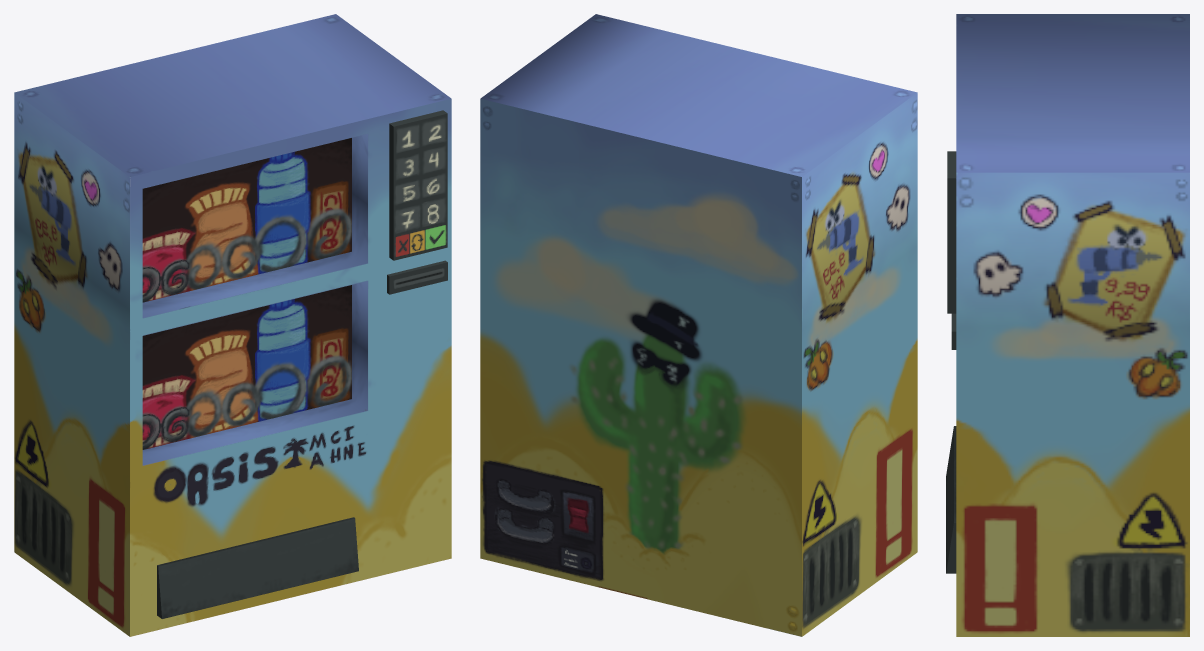
Rendered from MaquinaVendasCinema.fbx.
The picture shows the model from 3 angles, left to right: view 1: azimuth 30°, elevation 25°; view 2: azimuth 150°, elevation 25°; view 3: azimuth 270°, elevation 25°; orthographic projection.
Visible parts, largest first — view 1: MaquinaVendas; view 2: MaquinaVendas; view 3: MaquinaVendas.
Part boxes in pixels (bbox=[...]): MaquinaVendas: bbox=[14, 14, 451, 636]; MaquinaVendas: bbox=[480, 14, 917, 636]; MaquinaVendas: bbox=[946, 14, 1189, 636].
Bounding box in the file's own units: 117 × 159 × 75.87.
